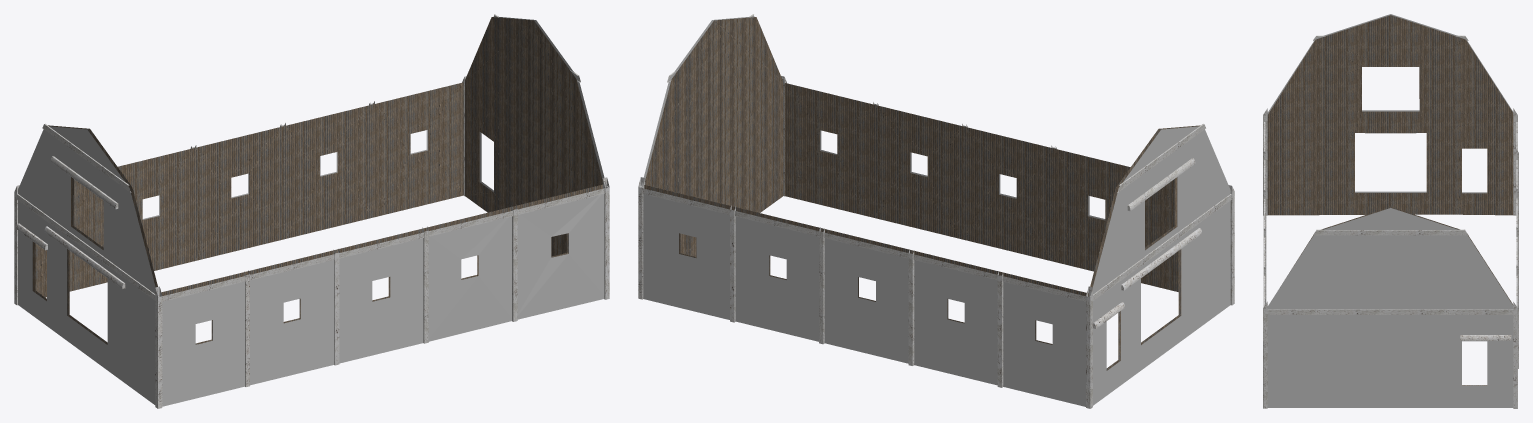
File: barnCore.FBX
The picture shows the model from 3 angles, left to right: view 1: azimuth 30°, elevation 25°; view 2: azimuth 150°, elevation 25°; view 3: azimuth 270°, elevation 25°; orthographic projection. The views are drawn at different scales.
Parts seen in each view (by area): view 1: barnCore, barnCoreInside; view 2: barnCore, barnCoreInside; view 3: barnCore, barnCoreInside.
Part boxes in pixels (bbox=[...]): barnCore: bbox=[14, 14, 609, 408]; barnCoreInside: bbox=[32, 17, 602, 344]; barnCore: bbox=[638, 14, 1234, 408]; barnCoreInside: bbox=[644, 17, 1200, 370]; barnCore: bbox=[1263, 14, 1518, 408]; barnCoreInside: bbox=[1267, 15, 1513, 385].
Size of the model in its own units: 2202 by 1048 by 1212.
